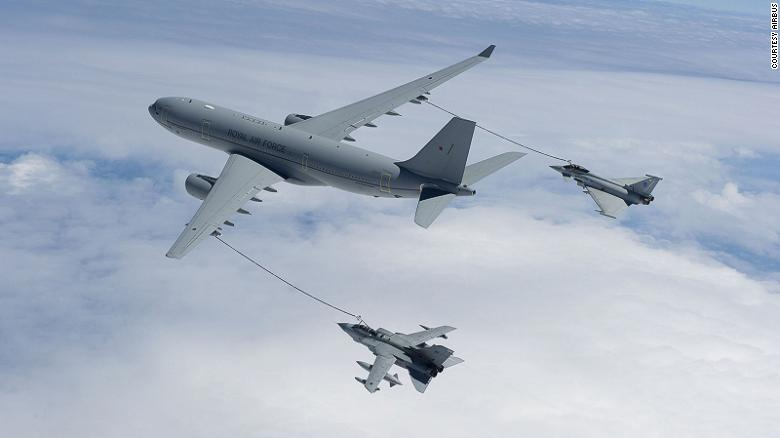plane: (147, 43, 527, 258), (336, 322, 464, 394), (546, 163, 662, 219)
